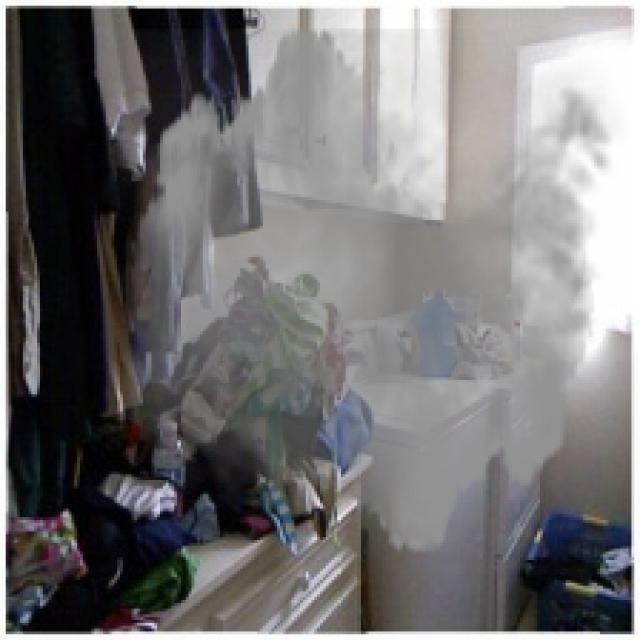Smoke: (109, 9, 628, 572)
